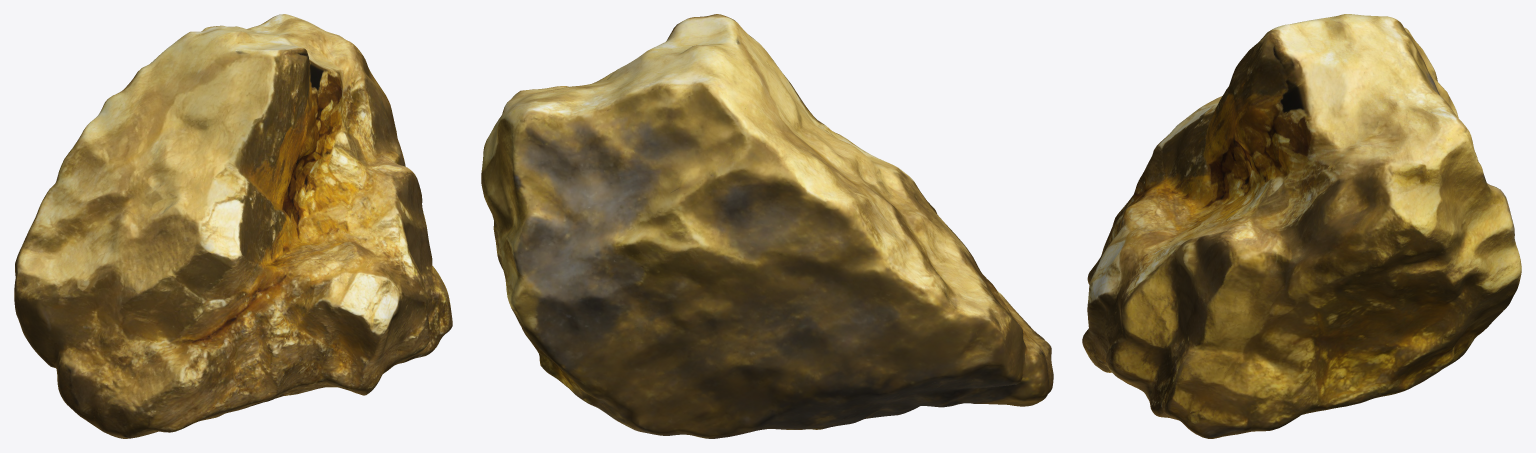
Rendered from Gold GLB.glb.
The picture shows the model from 3 angles, left to right: view 1: azimuth 30°, elevation 25°; view 2: azimuth 150°, elevation 25°; view 3: azimuth 270°, elevation 25°; orthographic projection. The views are drawn at different scales.
Size of the model in its own units: 2 by 1.48 by 1.68.
1 material, 1 textured.
